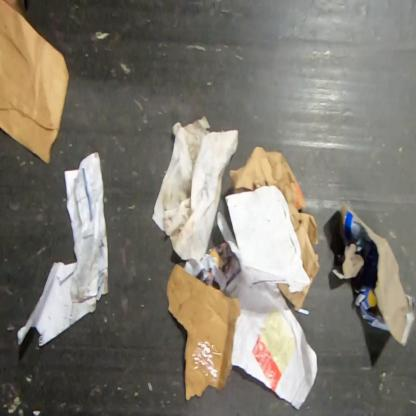cardboard: (331, 200, 415, 349)
